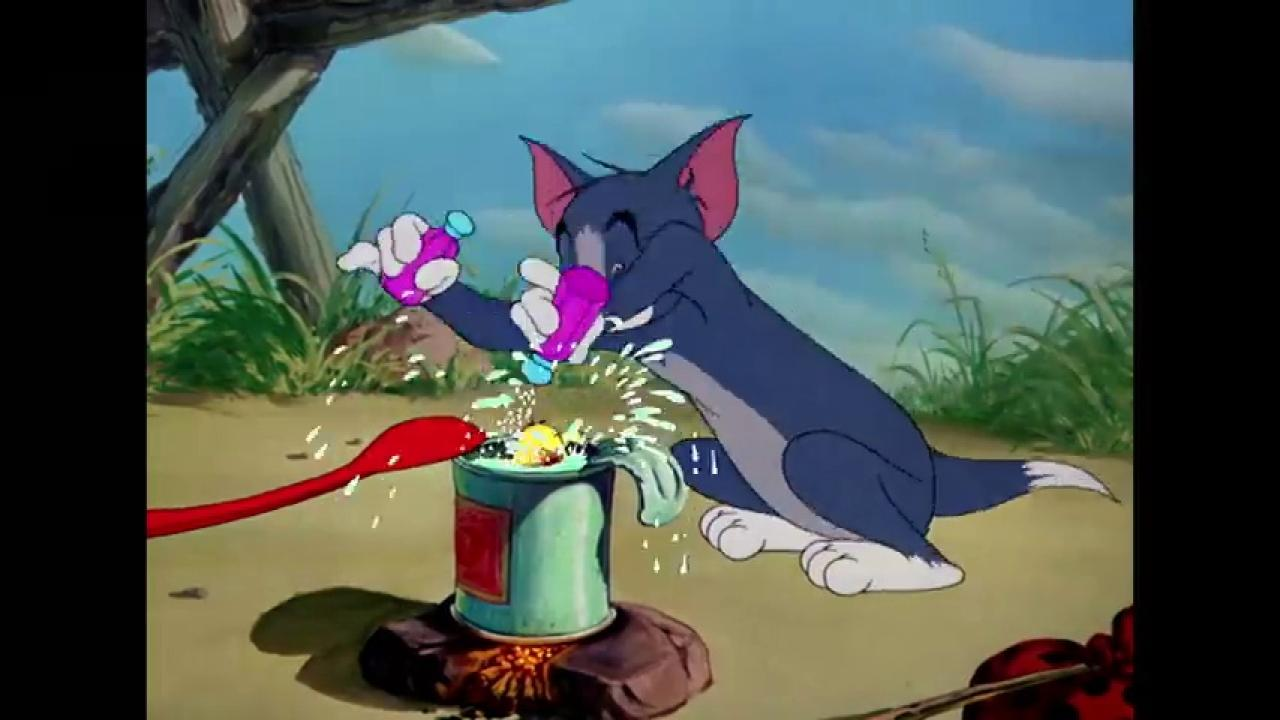Tom: (334, 111, 1123, 595)
